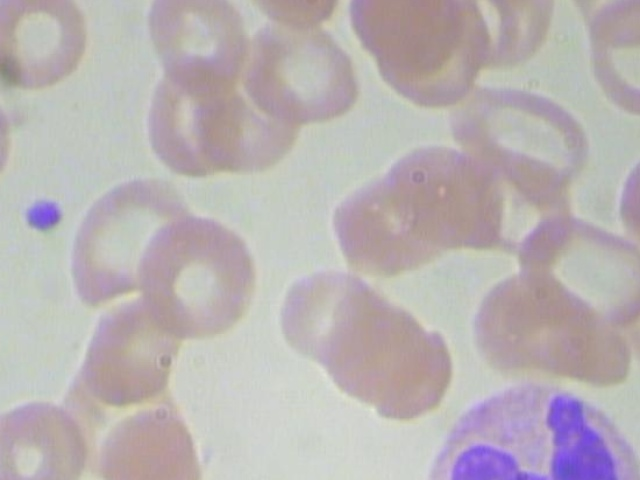Platelets: (14, 190, 69, 240)
RBC: (448, 67, 597, 203), (64, 170, 193, 312), (130, 210, 258, 346), (231, 10, 366, 130), (512, 209, 640, 329), (72, 286, 187, 408), (132, 0, 258, 92), (88, 390, 216, 480), (0, 0, 103, 88), (0, 394, 87, 480), (0, 72, 23, 201)
WBC: (398, 365, 640, 480)
